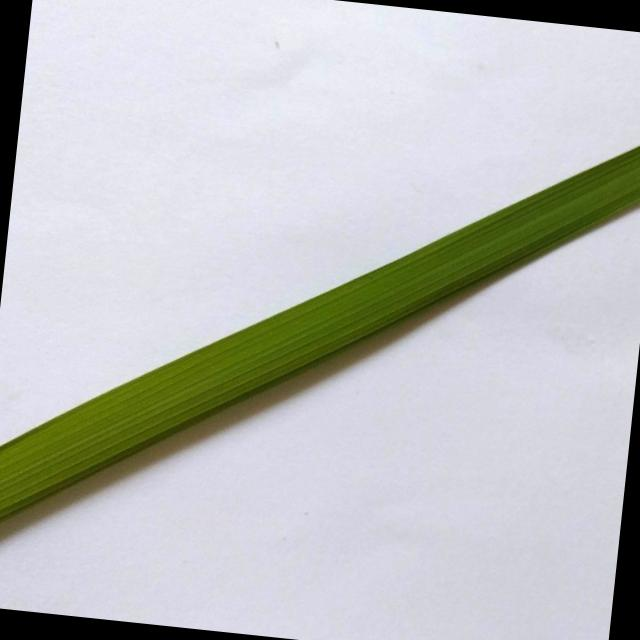Rice_Healthy: (0, 145, 640, 518)
